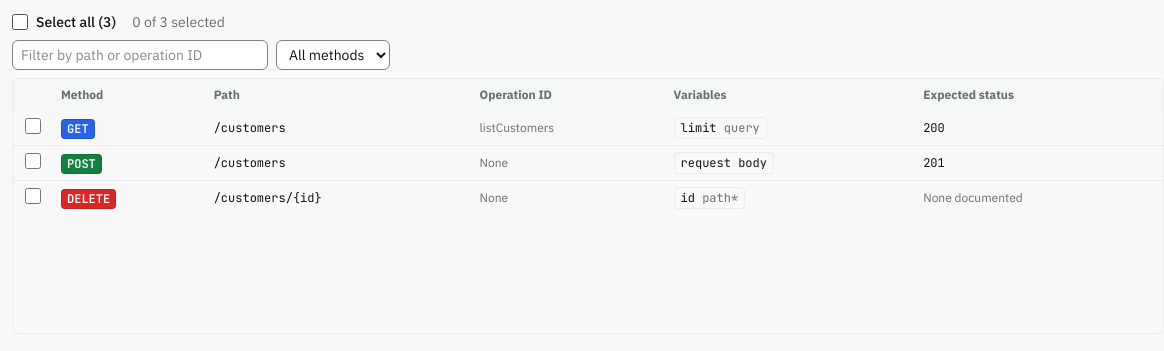
Scenario: OperationSelection filters (specs/047 R12, constitution XXXII) › selects and clears only the shown rows, while Select all still acts on every operation
This screenshot has width=1164, height=351.
Expected: the text "0 of 3 selected" is shown, [132,12,225,32]
Select "GET" in the dropdown named "Filter by method": (333, 55) [276,40,390,70]
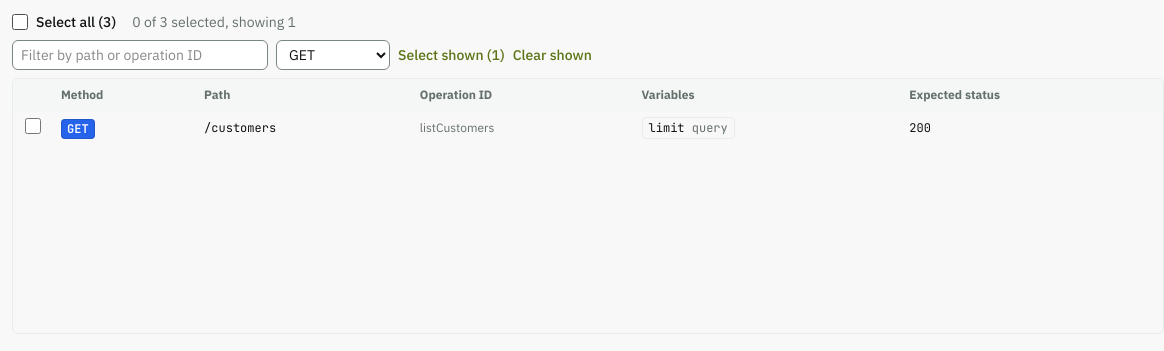
Click the button "Select shown (1)": (451, 55) [398,45,505,65]
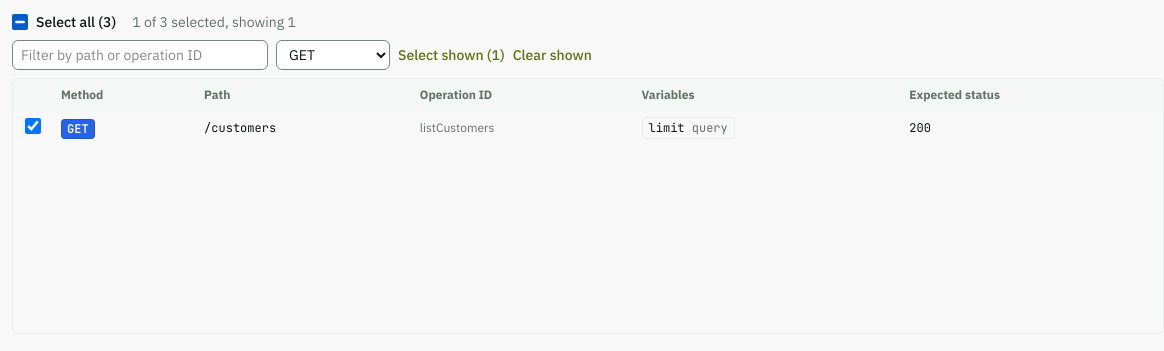
Expected: the text "1 of 3 selected, showing 1" is shown, [132,12,296,32]
Click the button "Clear shown": (552, 55) [513,45,592,65]
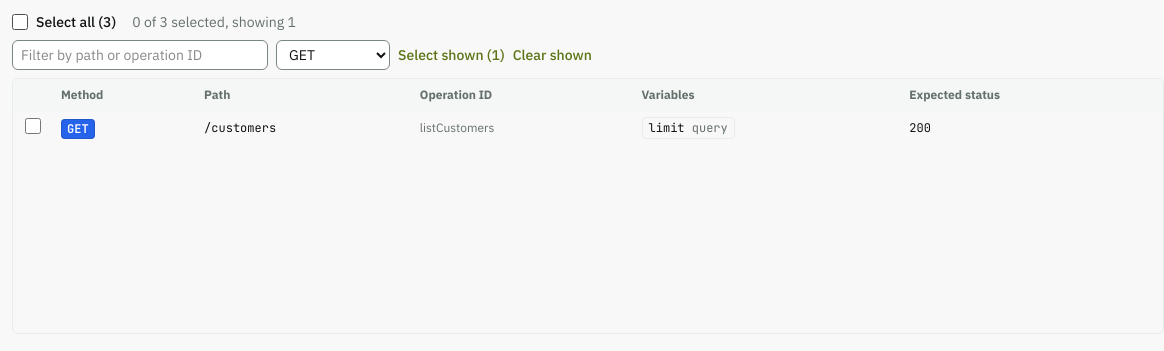
Expected: the text "0 of 3 selected, showing 1" is shown, [132,12,296,32]
Click the checkbox labelled "Select all (3)": (20, 22) [12,14,28,30]
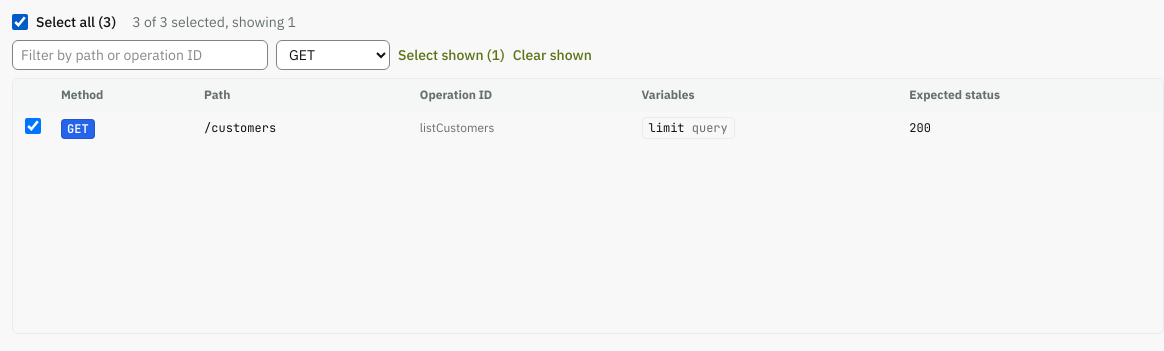
Expected: the text "3 of 3 selected, showing 1" is shown, [132,12,296,32]
